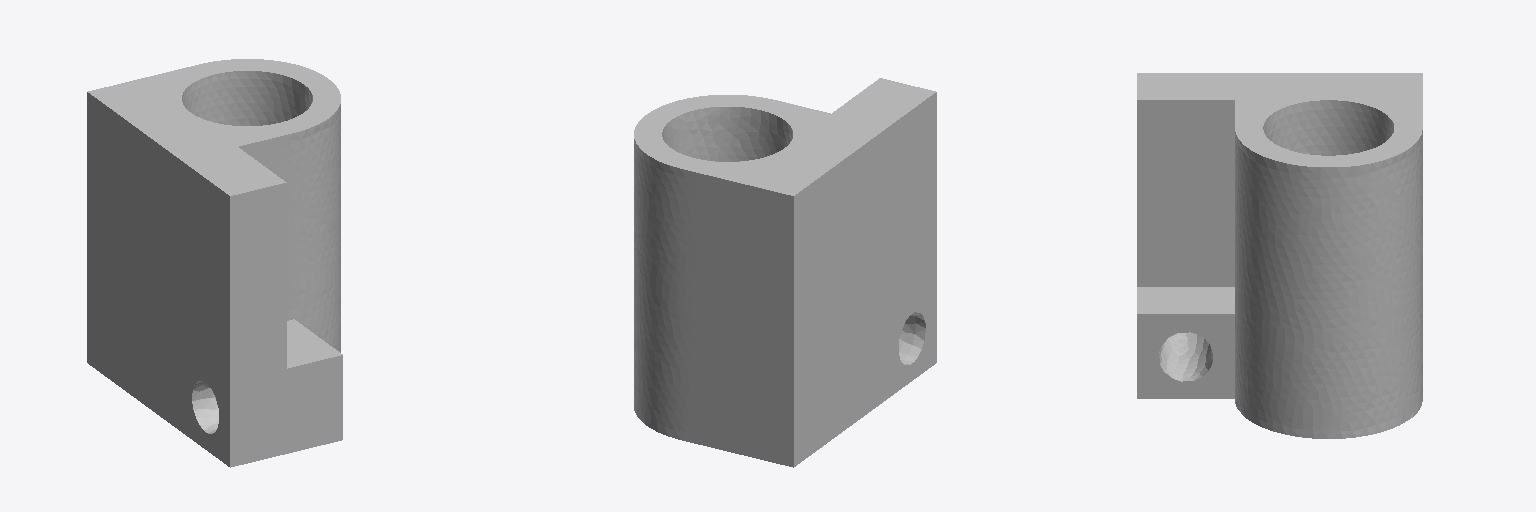
Rendered from joint.obj.
3 renders of one model, left to right at view 1: azimuth 30°, elevation 25°; view 2: azimuth 150°, elevation 25°; view 3: azimuth 270°, elevation 25°, orthographic.
Bounding box in the file's own units: 0.7501 × 1 × 0.9542.